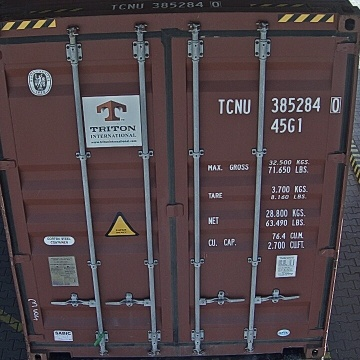serial_id: (218, 97, 341, 113)
